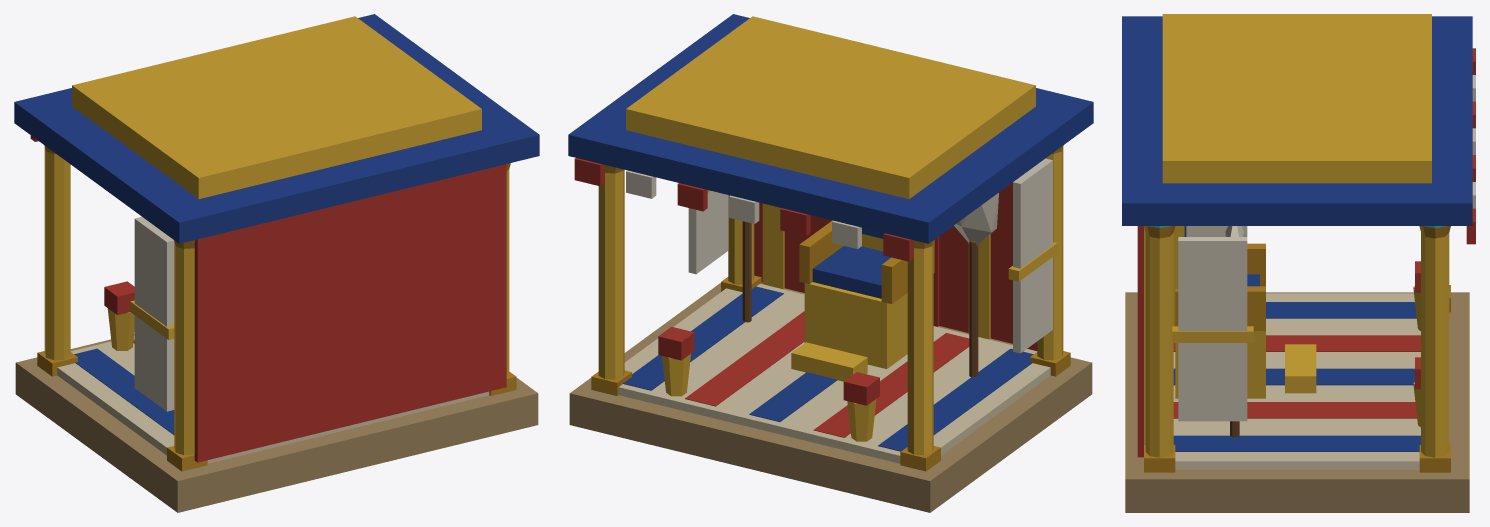
Rendered from Decor_PharaohPyramid_Pavilion.fbx.
3 renders of one model, left to right at view 1: azimuth 30°, elevation 25°; view 2: azimuth 150°, elevation 25°; view 3: azimuth 270°, elevation 25°, orthographic. The views are drawn at different scales.
Visible parts, largest first — view 1: Pavilion_Body; view 2: Pavilion_Body; view 3: Pavilion_Body.
Boxes of the visible parts, x1,y1,x2,y2 form: Pavilion_Body: (14, 14, 539, 512); Pavilion_Body: (568, 14, 1093, 512); Pavilion_Body: (1122, 14, 1475, 512).
Size of the model in its own units: 14 by 11.6 by 11.2.
